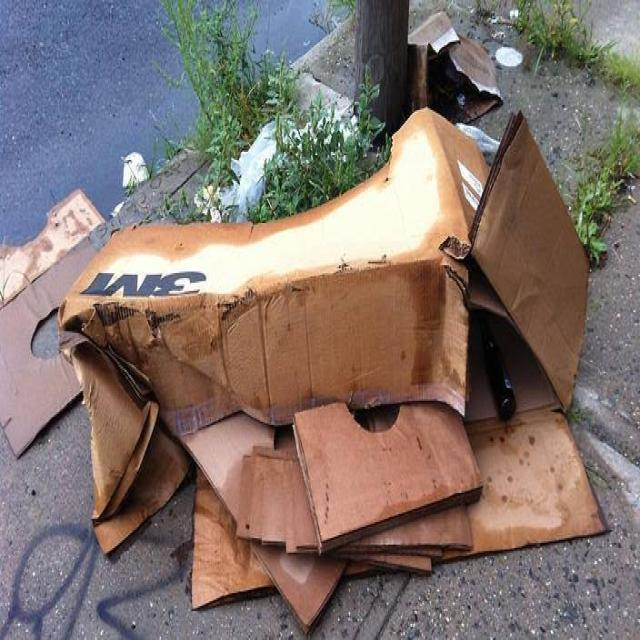paper: (52, 84, 640, 632)
